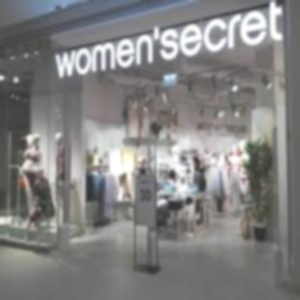women_secret: (22, 40, 300, 43)
